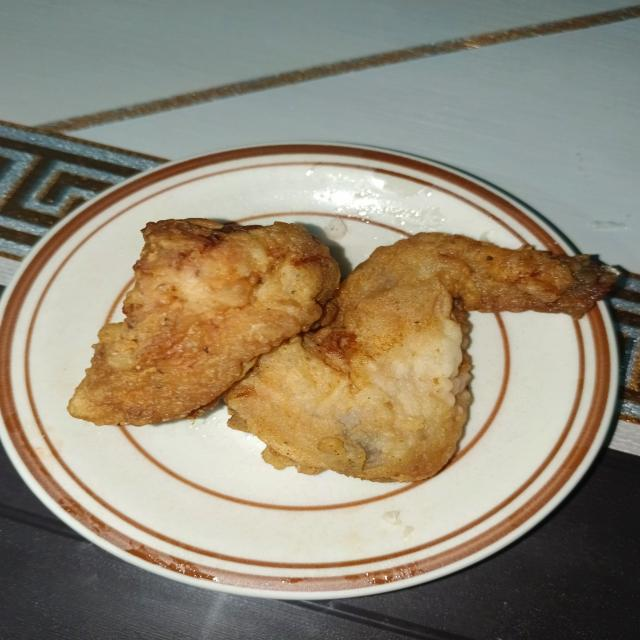Chicken -Fried Chicken-: (63, 190, 628, 500)
